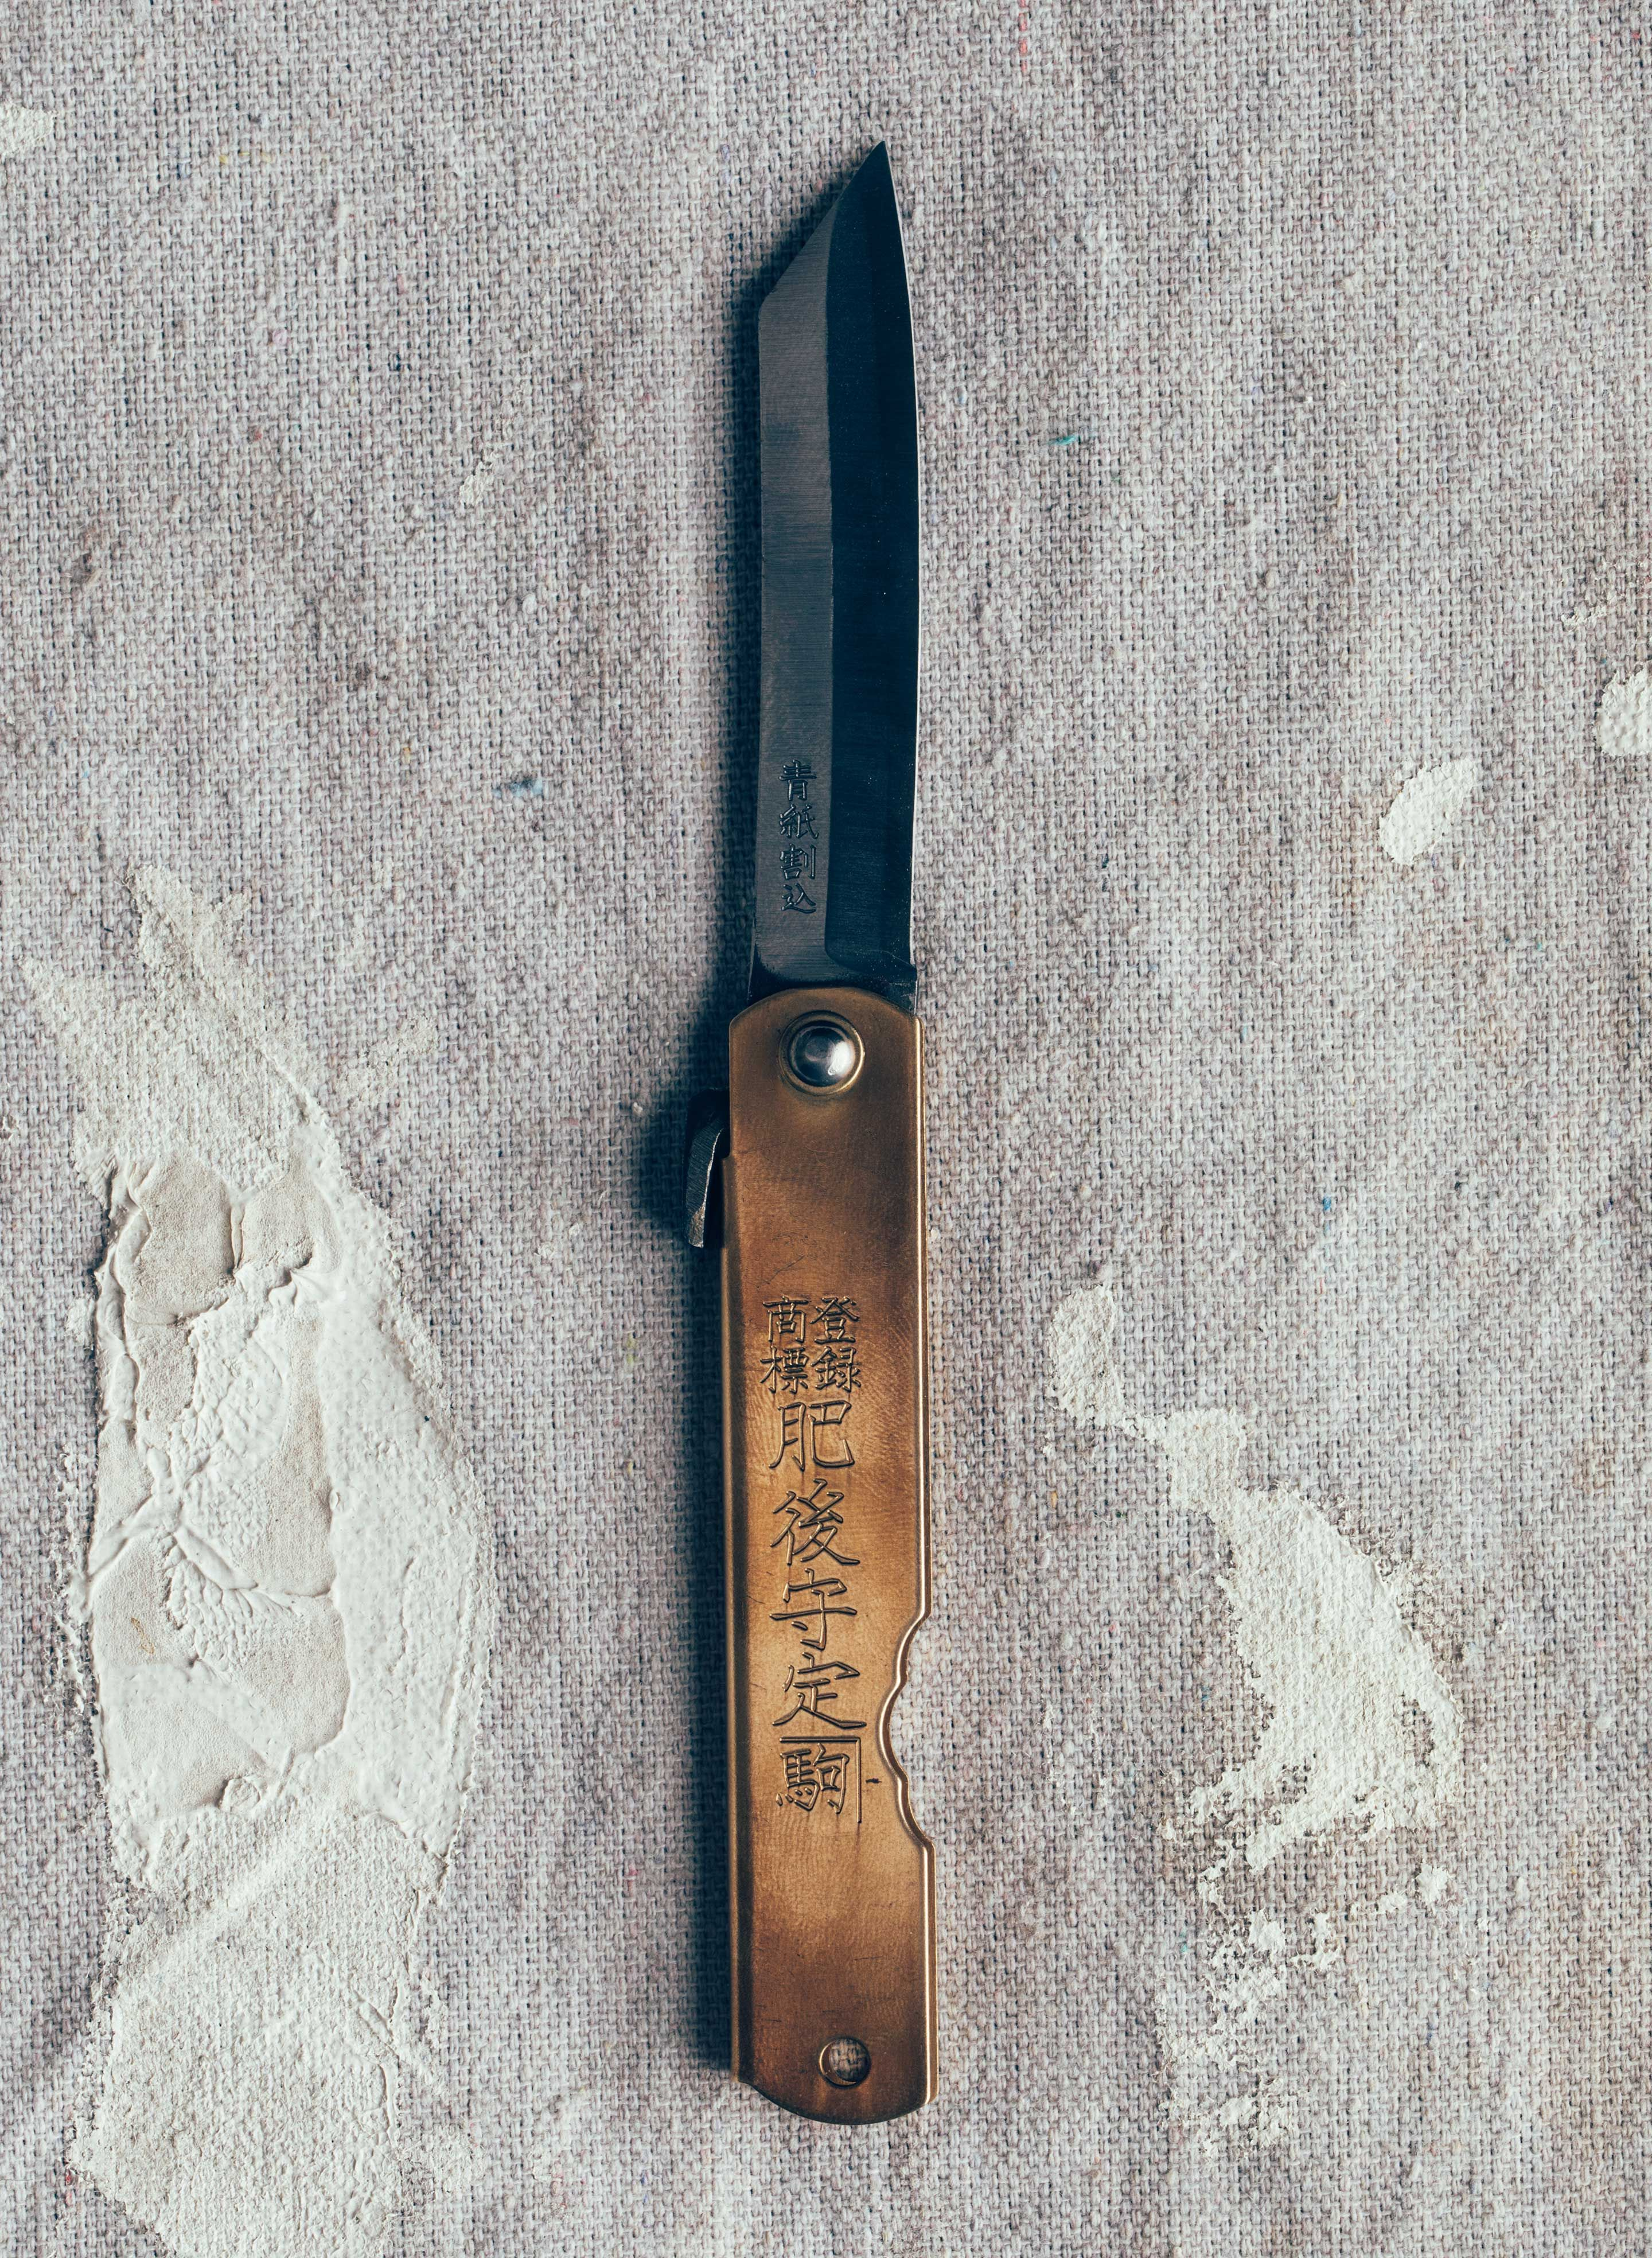knife: (638, 131, 996, 2148)
